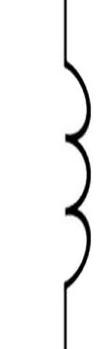inductor: (41, 57, 101, 305)
